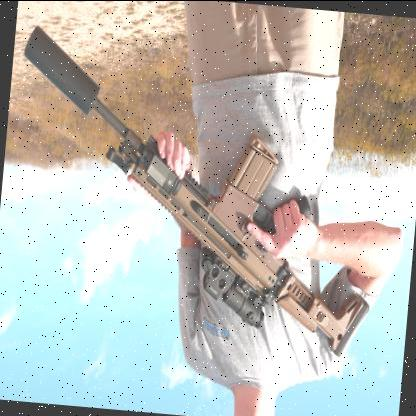rifle: (2, 22, 389, 372)
